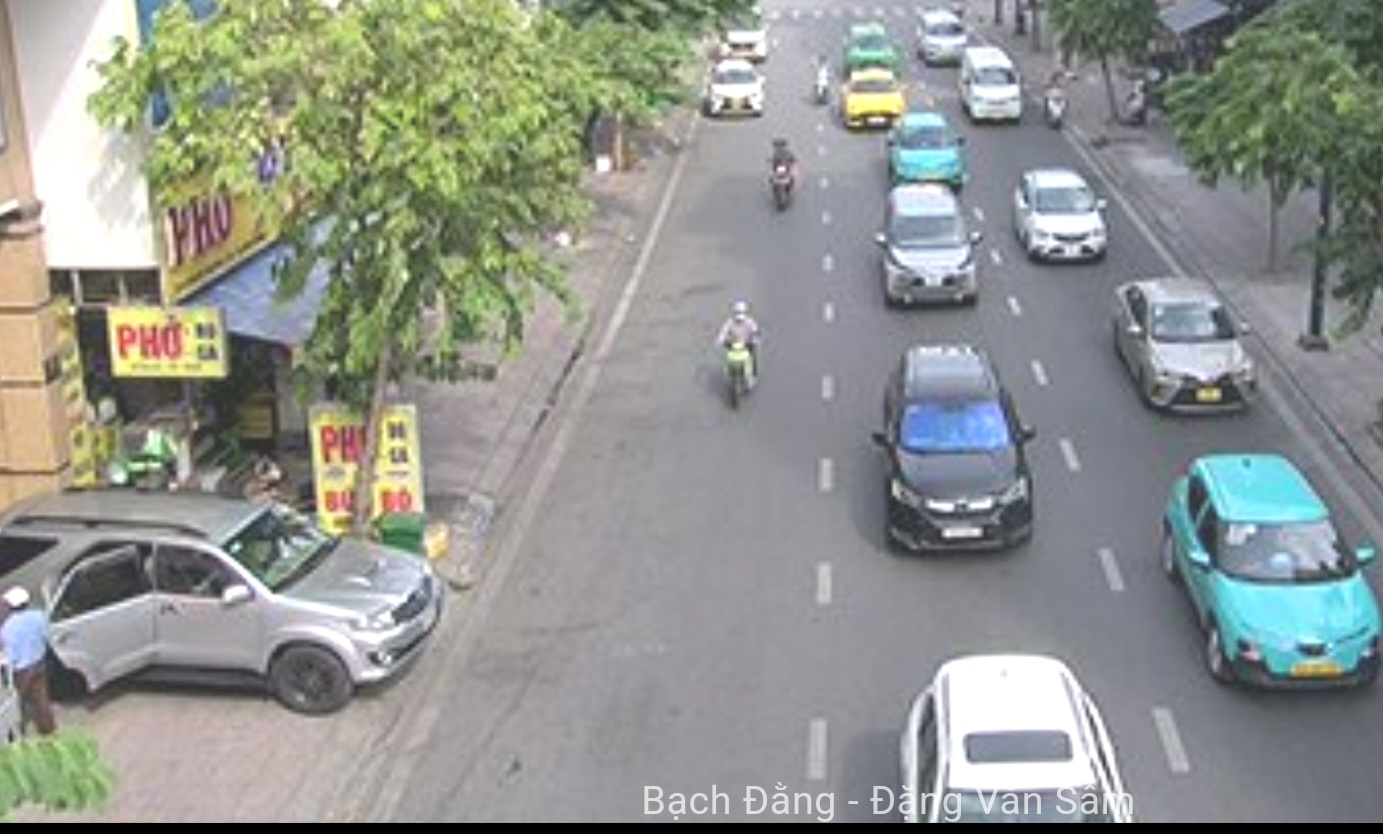car: (1155, 453, 1383, 702), (897, 653, 1130, 834), (886, 348, 1048, 568), (1110, 282, 1263, 424), (879, 191, 979, 304), (1012, 168, 1112, 266), (889, 116, 960, 185), (963, 50, 1022, 122), (703, 58, 771, 120), (839, 71, 909, 130)
